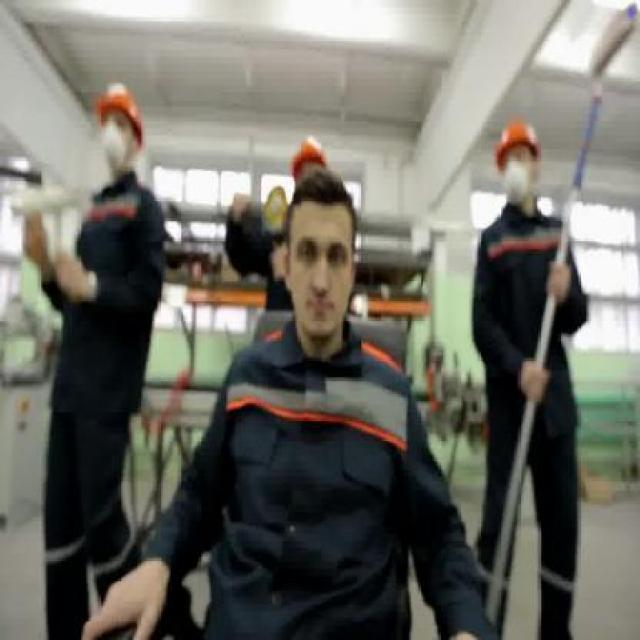Helmet: (94, 82, 148, 153), (496, 120, 541, 172), (292, 138, 325, 172)
Mask: (498, 152, 534, 206), (100, 121, 131, 174)
Vest: (138, 312, 491, 638), (41, 171, 168, 638), (474, 198, 592, 638)
